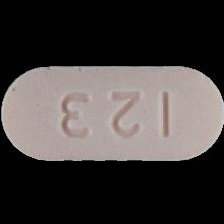51991-354: (0, 0, 224, 224)
